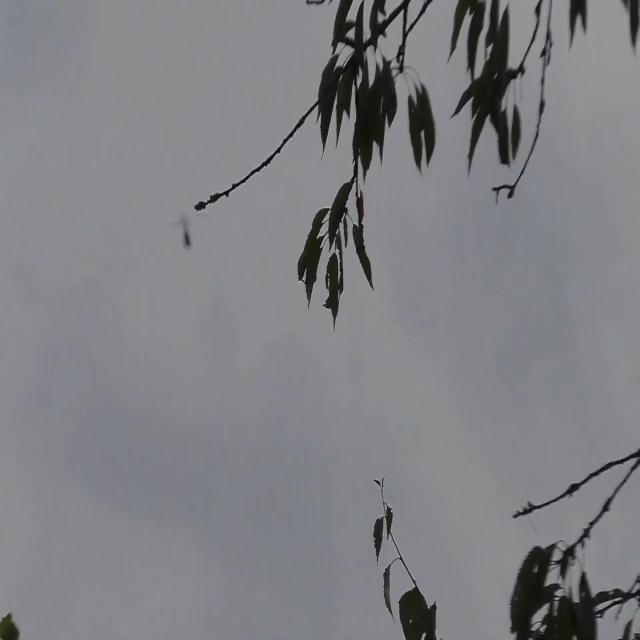CIV_HELO: (171, 214, 193, 250)
